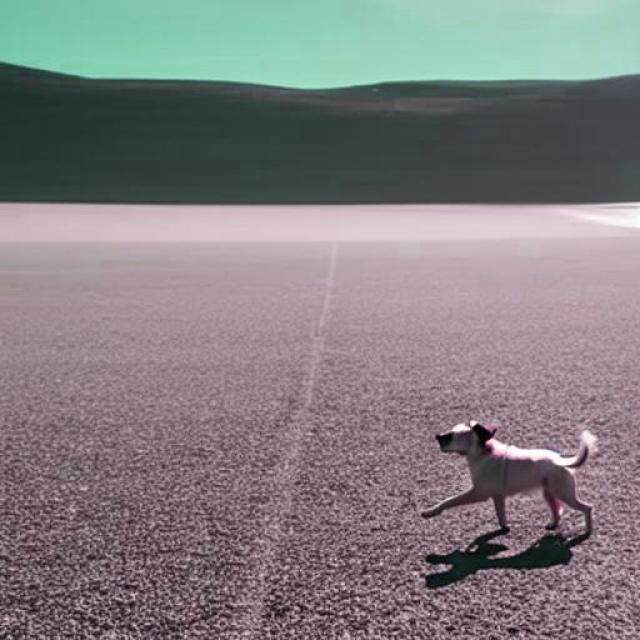Dog: (421, 419, 598, 536)
